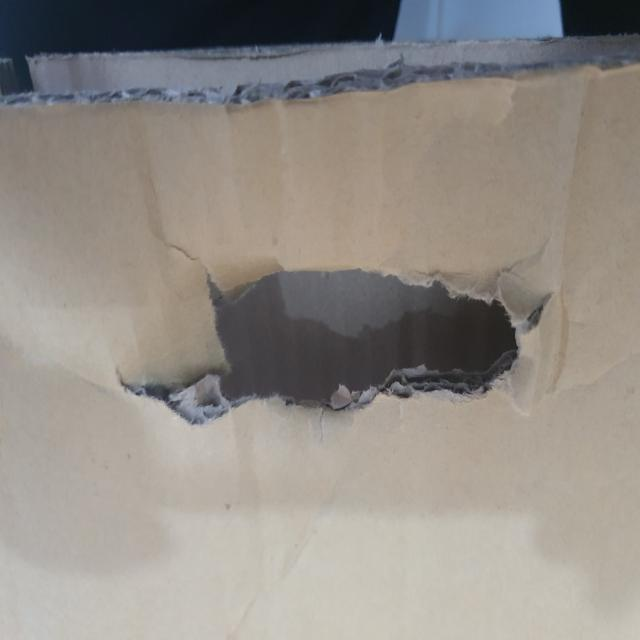damaged: (120, 257, 554, 464)
